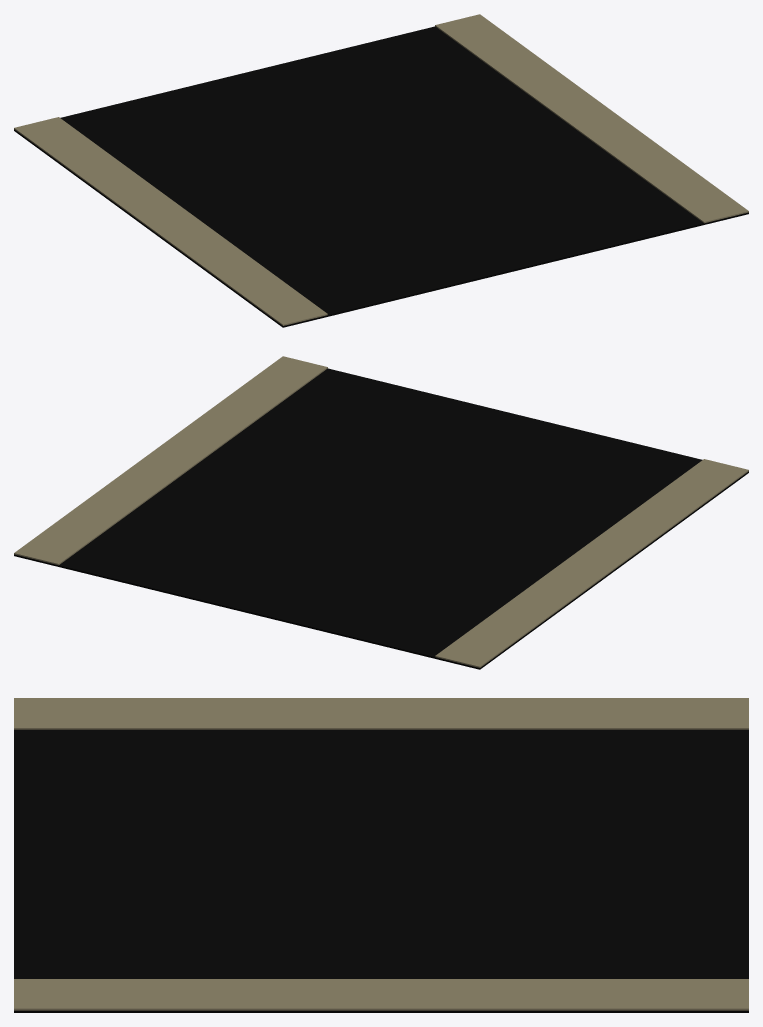
Rendered from Road_2.FBX.
3 renders of one model, top to bottom at view 1: azimuth 30°, elevation 25°; view 2: azimuth 150°, elevation 25°; view 3: azimuth 270°, elevation 25°, orthographic. The views are drawn at different scales.
Parts seen in each view (by area): view 1: Box002; view 2: Box002; view 3: Box002.
Boxes of the visible parts, box(x1,y1,x2,y2) form: Box002: box(14, 14, 748, 327); Box002: box(14, 356, 748, 669); Box002: box(14, 698, 748, 1012).
Size of the model in its own units: 223 by 1.38 by 223.
